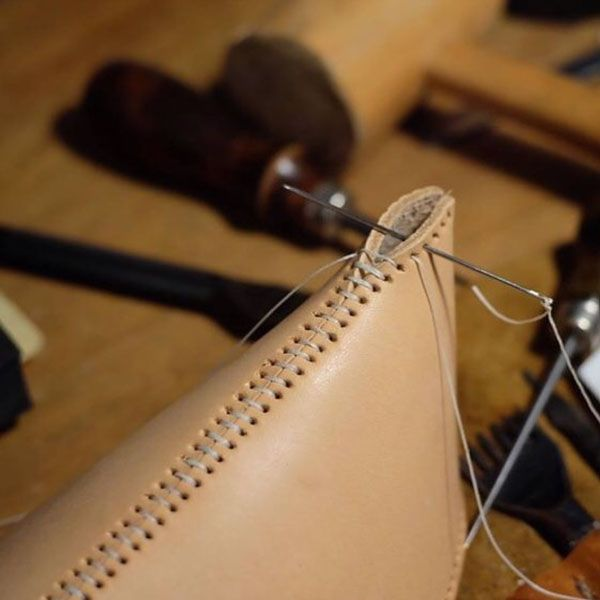cuero: (4, 184, 469, 600)
